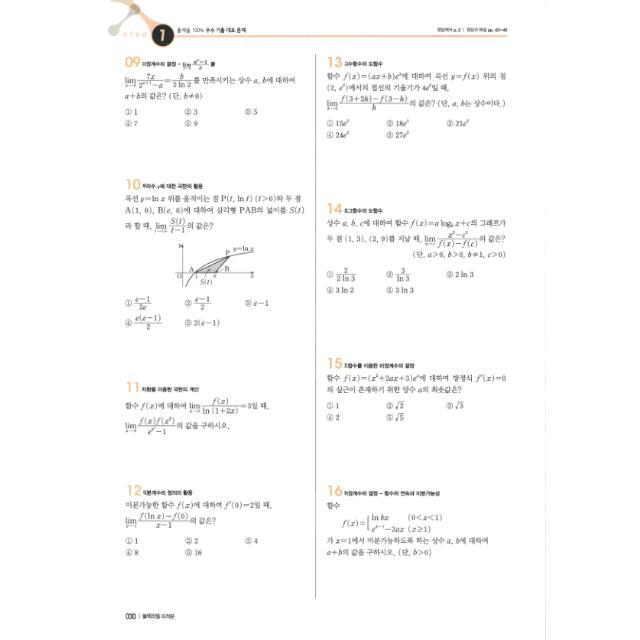multiple: (116, 168, 310, 338), (320, 190, 520, 300), (320, 44, 518, 148), (114, 473, 310, 577), (320, 346, 520, 440), (112, 46, 306, 142)
short: (317, 476, 519, 574), (113, 371, 309, 441)
